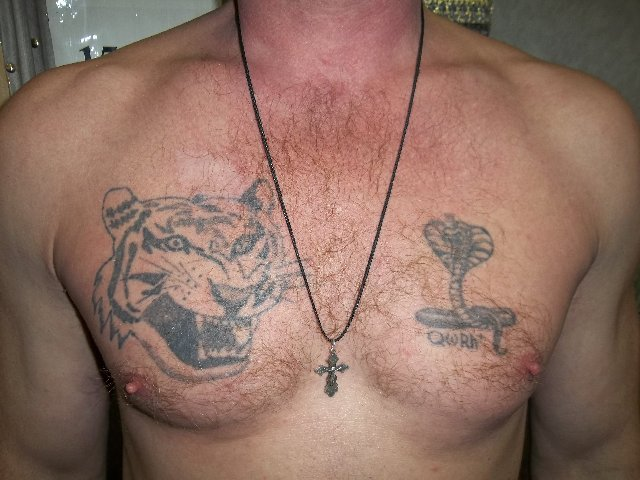tatu3_bukva: (426, 330, 482, 353)
tatu5_tigr: (88, 178, 294, 382)
tatu7_zmeya: (411, 210, 520, 333)
